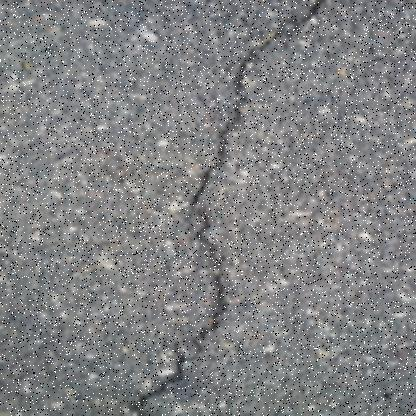Cracks: (108, 0, 338, 415)
